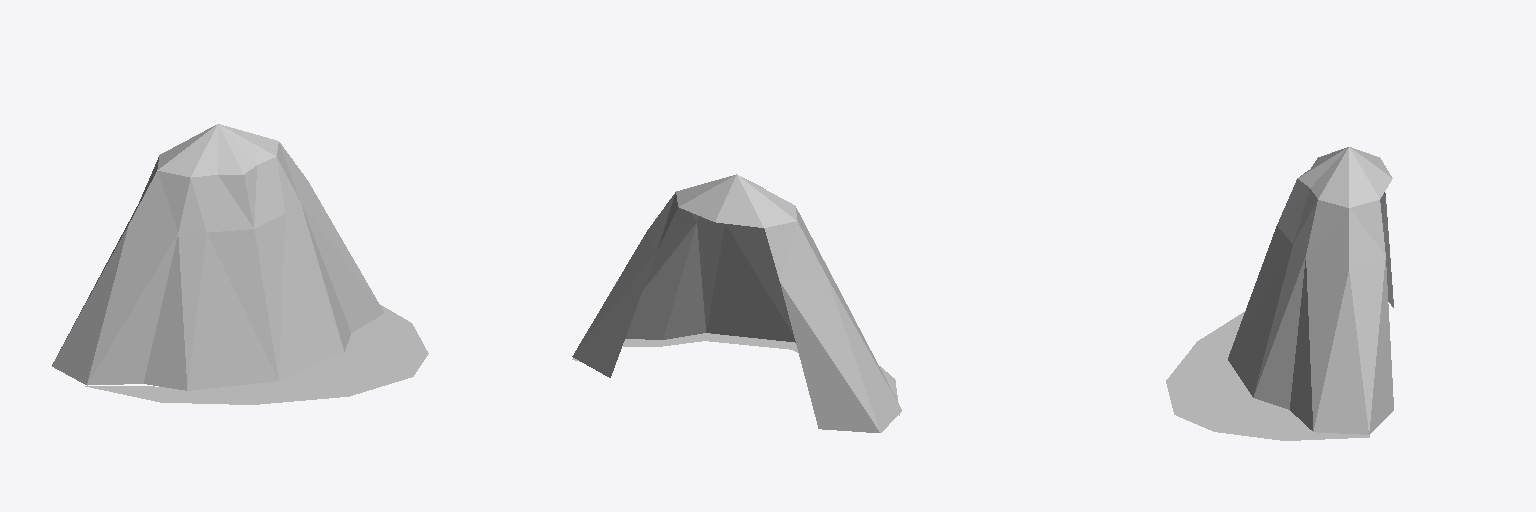
File: Dirt Pile.obj
The picture shows the model from 3 angles: view 1: azimuth 30°, elevation 25°; view 2: azimuth 150°, elevation 25°; view 3: azimuth 270°, elevation 25°; orthographic projection.
Parts seen in each view (by area): view 1: polygon1, polygon0; view 2: polygon1, polygon0; view 3: polygon1, polygon0.
Part boxes in pixels (bbox=[...]): polygon1: bbox=[52, 124, 384, 390]; polygon0: bbox=[85, 305, 428, 404]; polygon1: bbox=[572, 174, 901, 432]; polygon0: bbox=[572, 333, 899, 415]; polygon1: bbox=[1228, 147, 1393, 434]; polygon0: bbox=[1166, 312, 1369, 440].
Size of the model in its own units: 129 by 83.86 by 80.57.